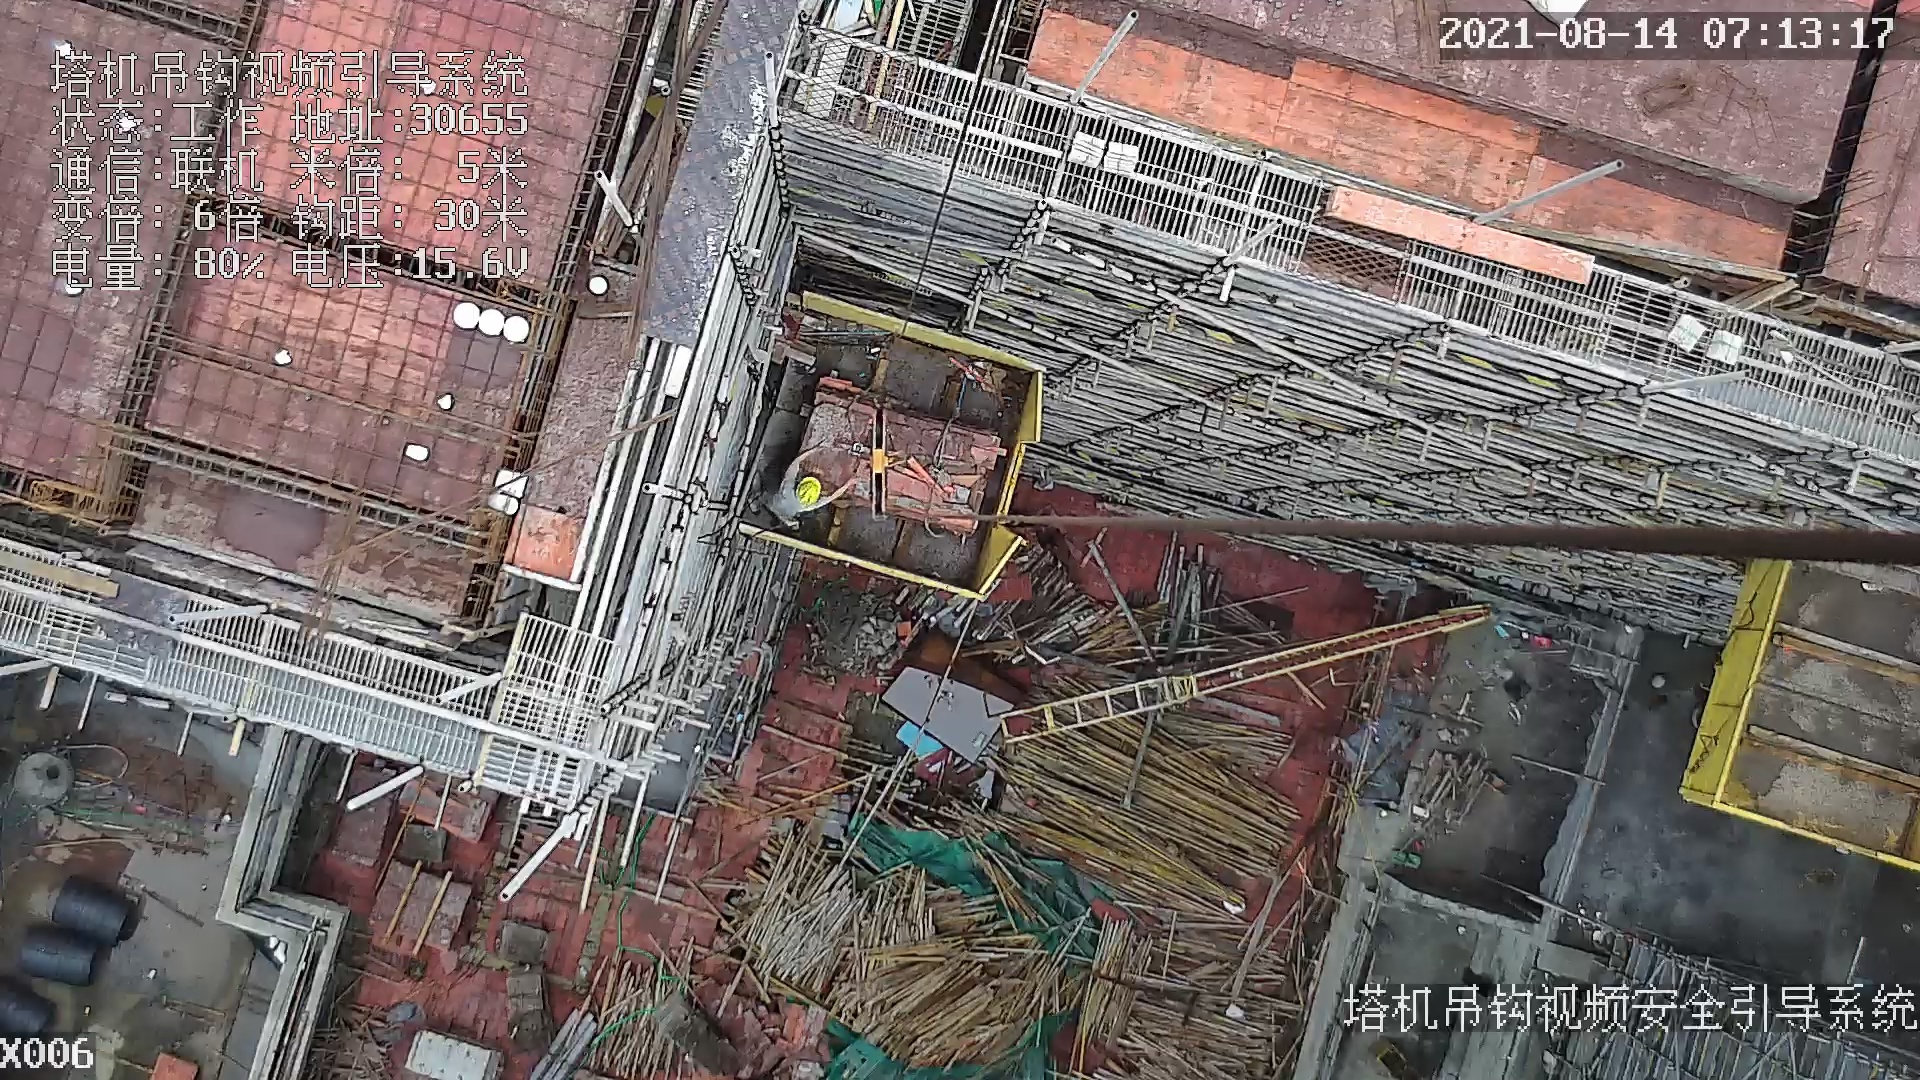helmet: (793, 474, 822, 508)
hook: (863, 404, 897, 522)
person: (778, 455, 859, 531)
